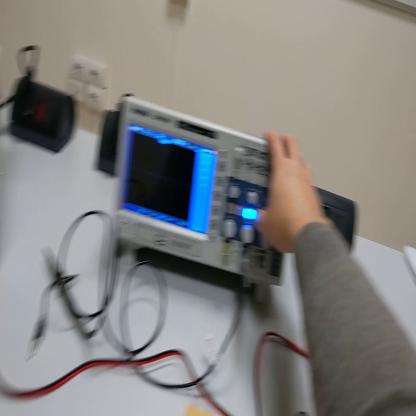hand: (255, 130, 323, 255)
oscilloscope: (112, 92, 306, 312)
oscilloscope probe tip: (43, 243, 81, 319)
socket: (8, 84, 77, 156), (97, 101, 120, 180)
working area: (186, 403, 214, 416)
